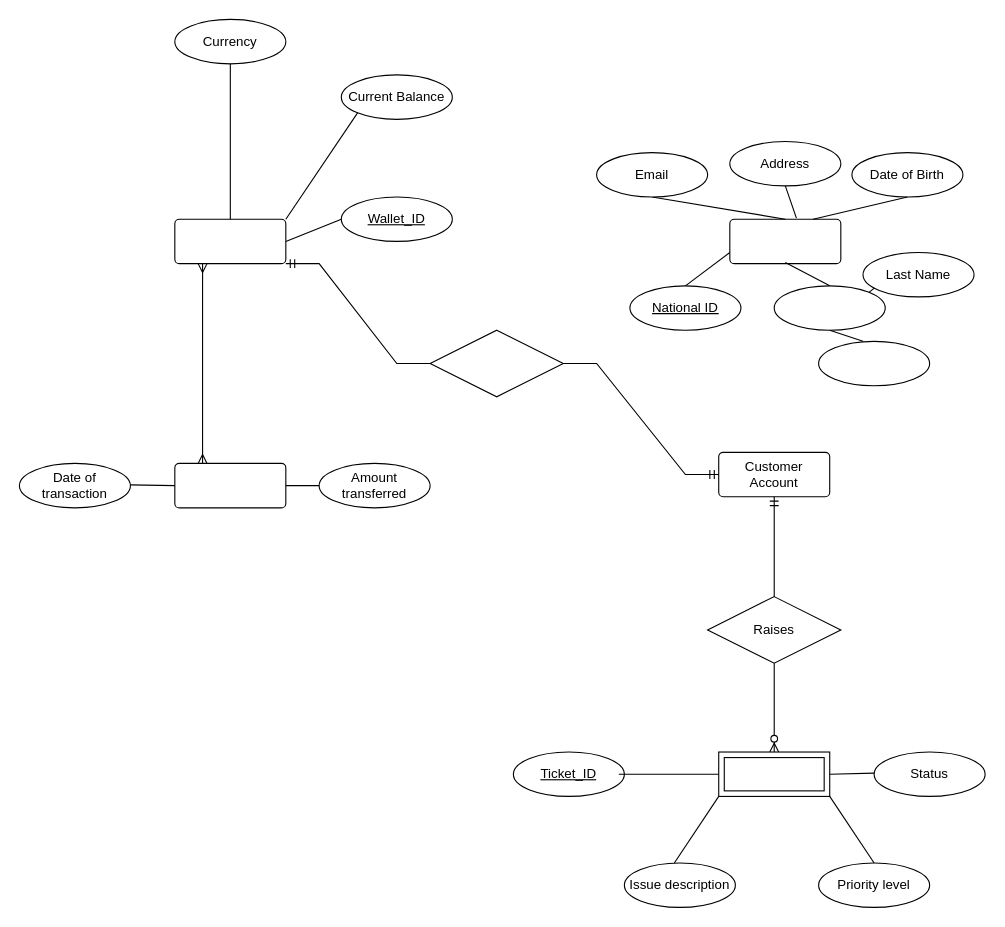
This 1005x927 diagram has some shape labels left out. The centre of each missing label's shape, as x and y in pixels:
Customer Prof ile: the point at 785,241
First Name: the point at 874,363
Name: the point at 829,307
Owns: the point at 496,363
Technical support ticket: the point at 774,773
Transfer Transaction: the point at 230,485
Wallet: the point at 230,241
